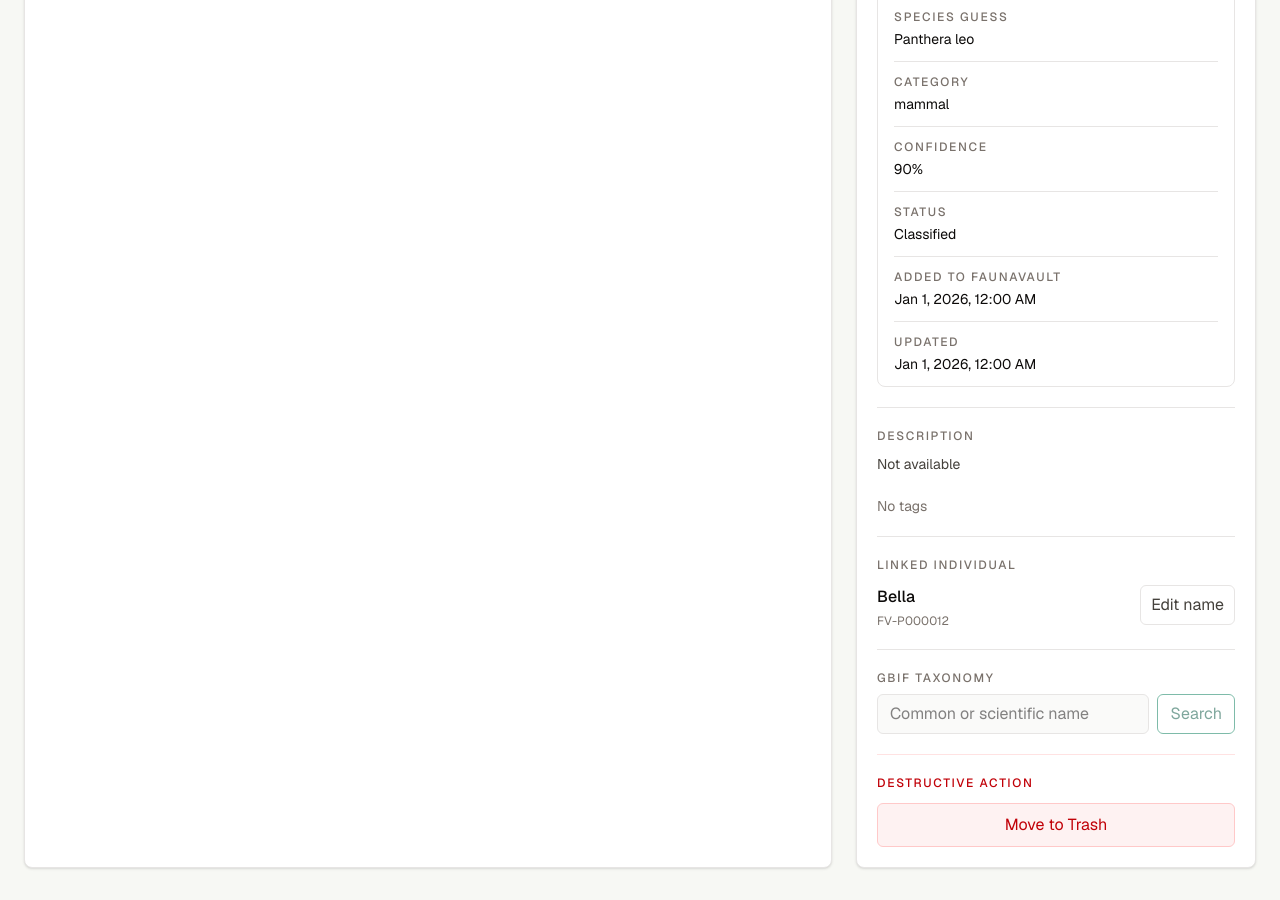
Scenario: shows and edits the linked animal from photo detail
(page scrolled)
Expected: the heading "Linked individual" is shown, left=877, top=557, right=1017, bottom=573
Expected: the text "Bella" is shown, left=877, top=586, right=915, bottom=607
What coordinates should you click on to do the following:
click the button with aria-label "Edit name for FV-P000012"
I would click on:
 (1188, 605)
Its box is left=1140, top=585, right=1235, bottom=625.
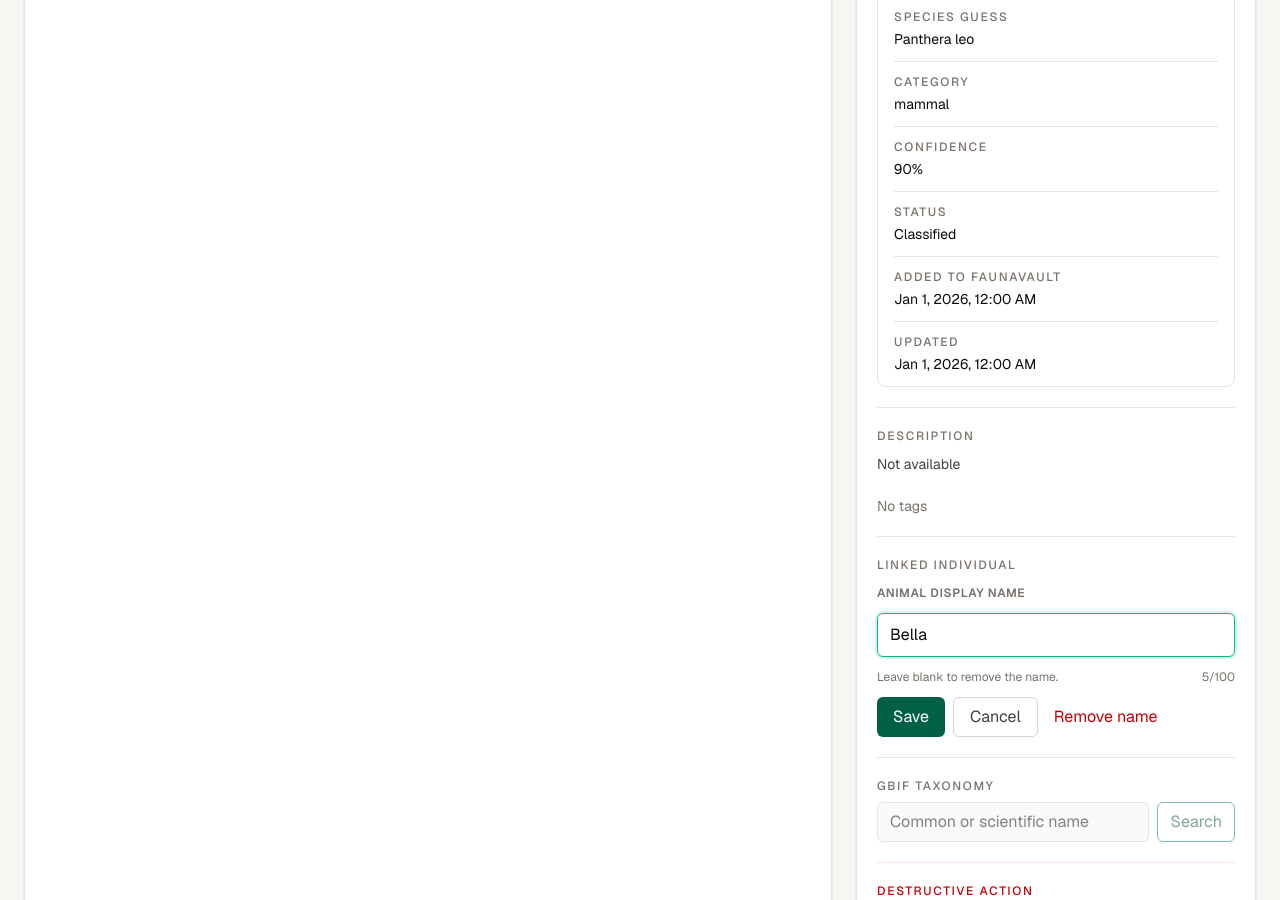
Now the field labelled "Animal display name" holds "Bella", box left=877, top=613, right=1235, bottom=657
